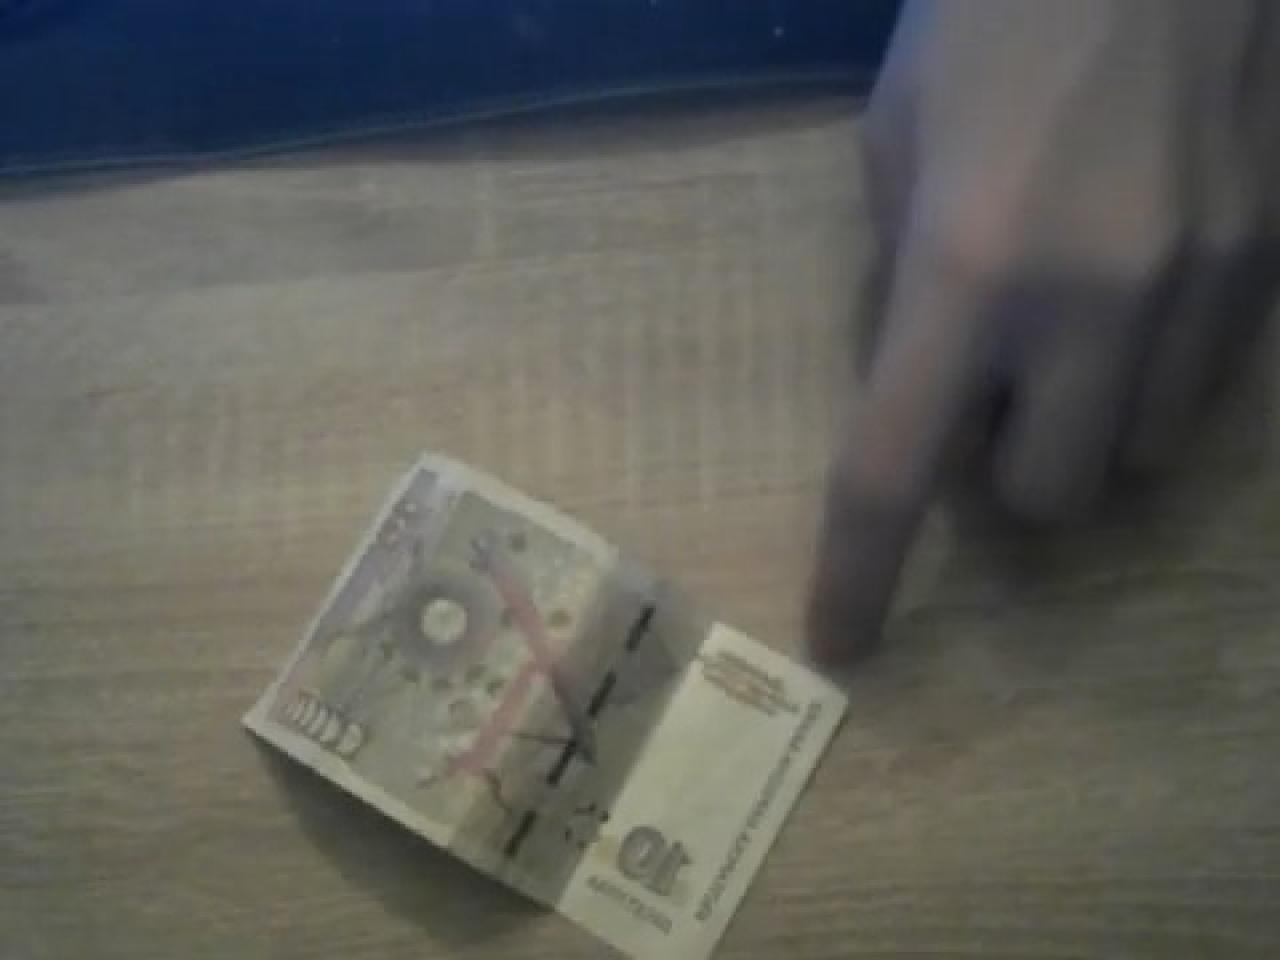10leva: (243, 453, 851, 960)
